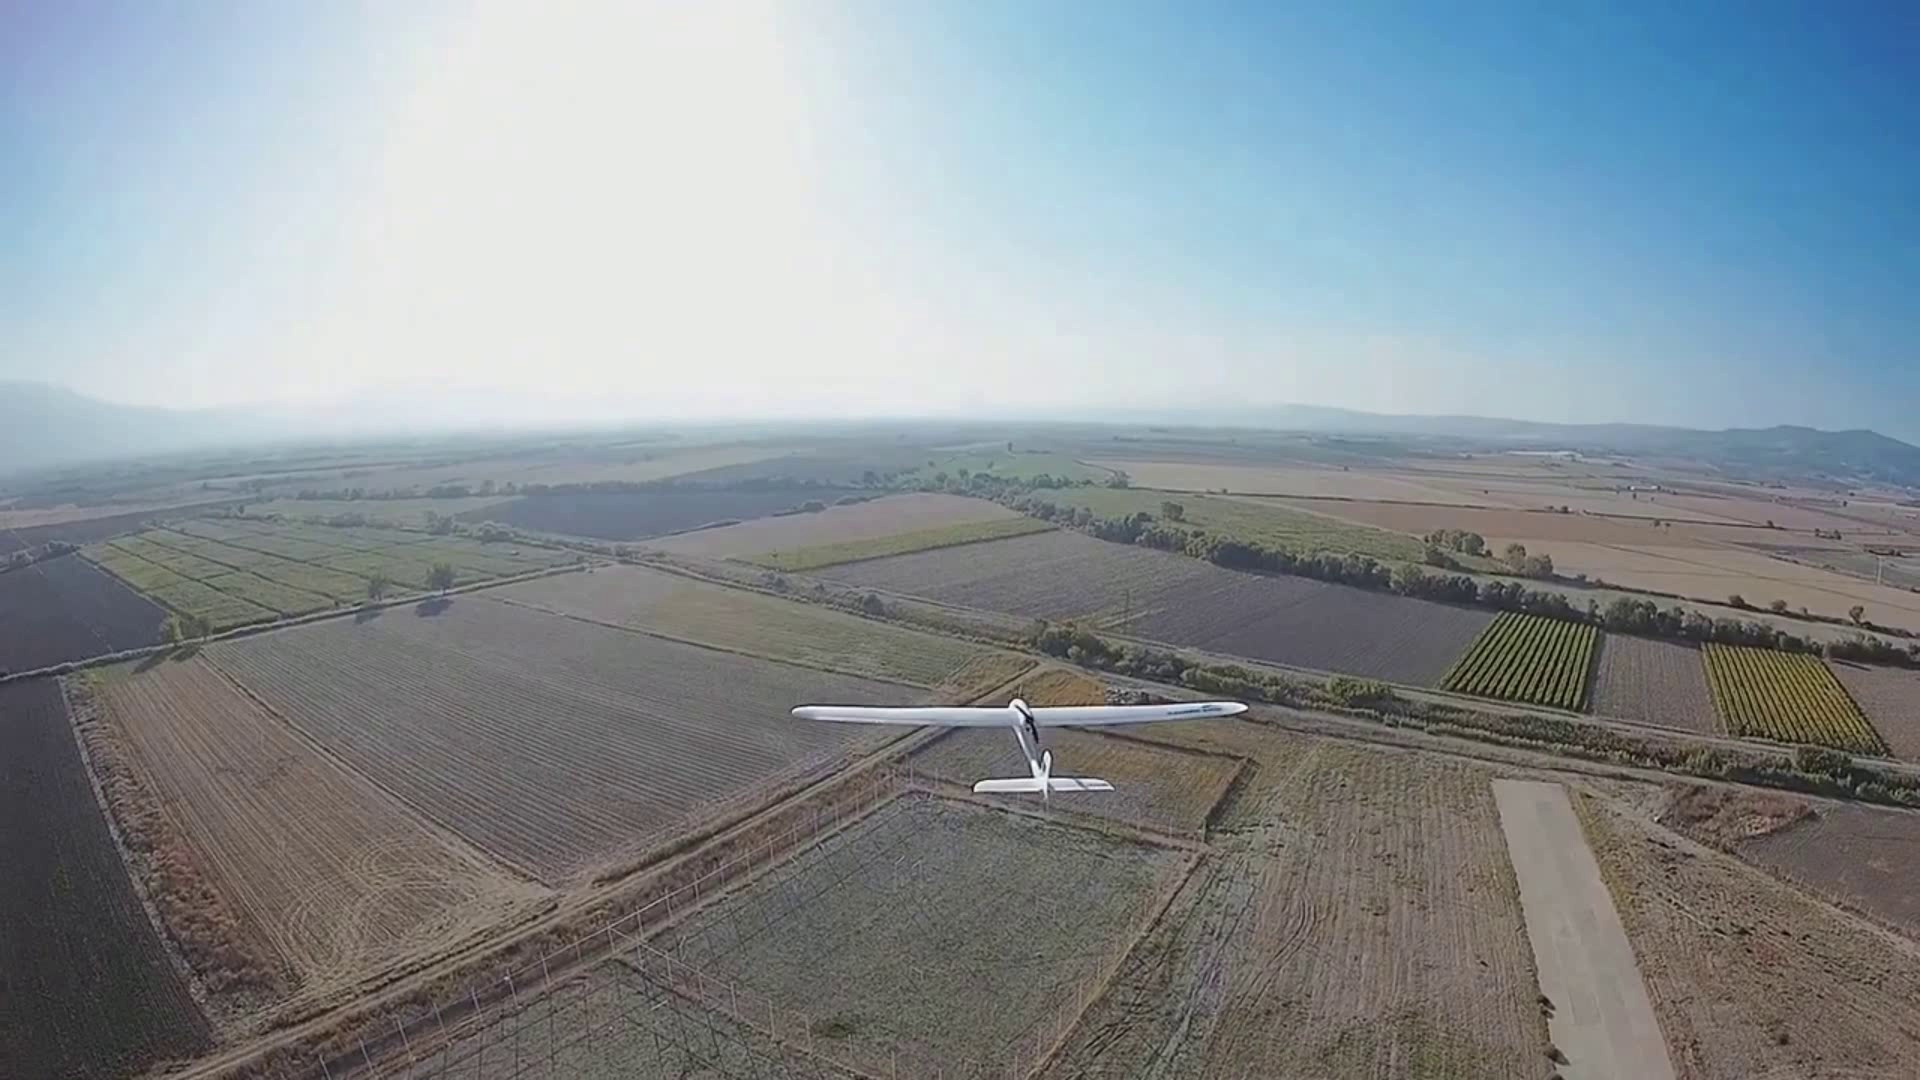airplane: (789, 687, 1251, 803)
